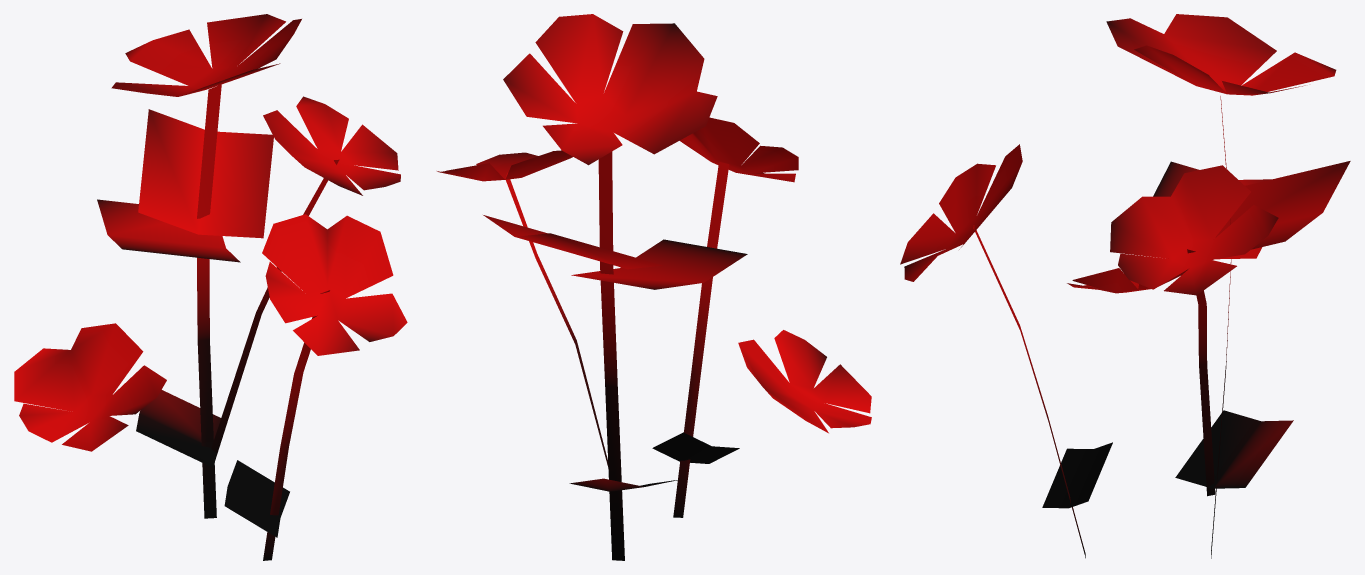
File: SM_Flower_01_b.FBX
The picture shows the model from 3 angles, left to right: view 1: azimuth 30°, elevation 25°; view 2: azimuth 150°, elevation 25°; view 3: azimuth 270°, elevation 25°; orthographic projection. The views are drawn at different scales.
Parts seen in each view (by area): view 1: SM_Flower_01_b_LOD0; view 2: SM_Flower_01_b_LOD0; view 3: SM_Flower_01_b_LOD0.
Part boxes in pixels (<box>): SM_Flower_01_b_LOD0: <box>14,14,407,560</box>; SM_Flower_01_b_LOD0: <box>437,14,871,560</box>; SM_Flower_01_b_LOD0: <box>900,14,1350,558</box>.
Size of the model in its own units: 53.4 by 48.44 by 64.33.
